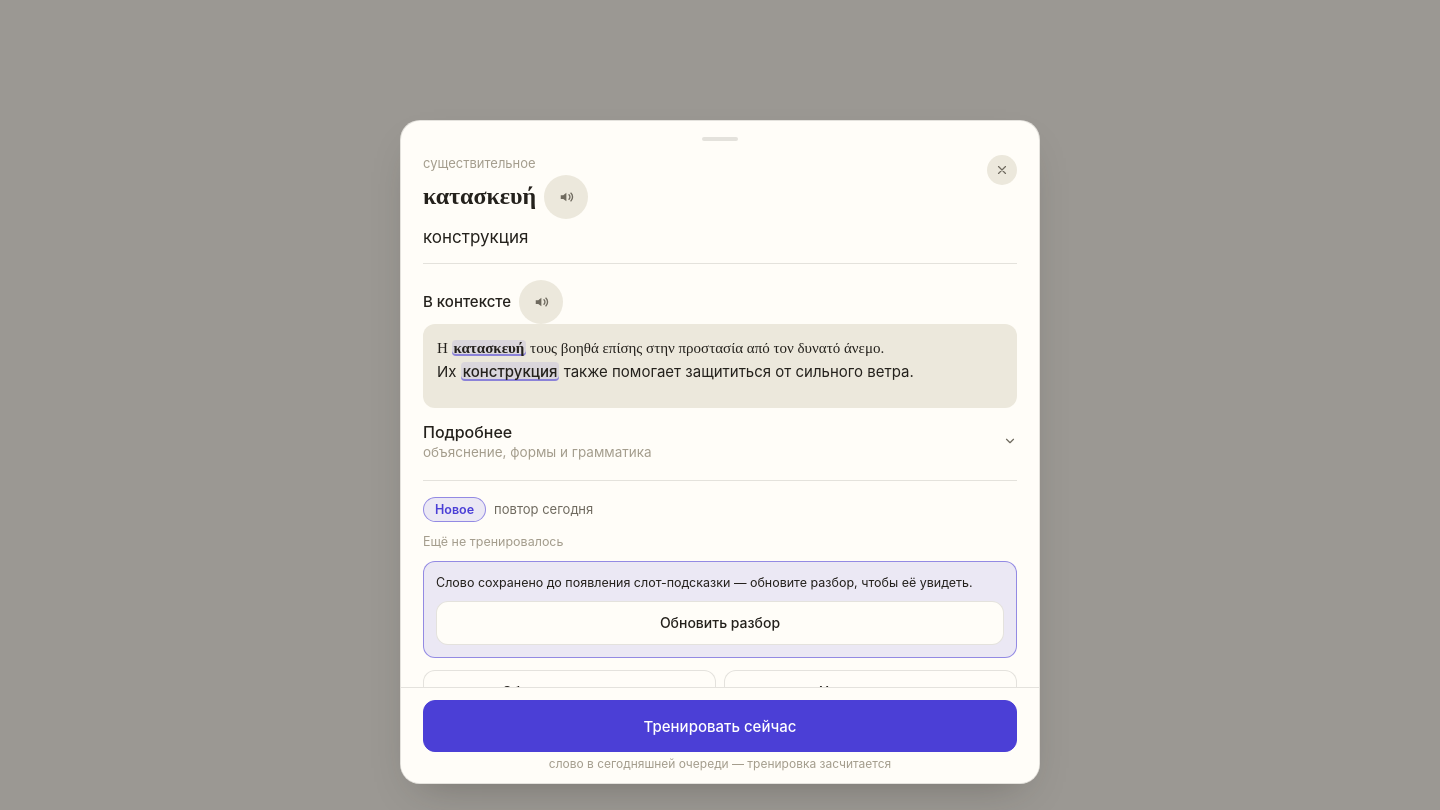
Test: LearnWordCard › «Подробнее» догружает тир 2 по локально токенизированному предложению
The width and height of the screenshot is (1440, 810).
Click the button "Подробнее объяснение, формы и грамматика" at [468, 432], box top-left (423, 408), bottom-right (1017, 464)
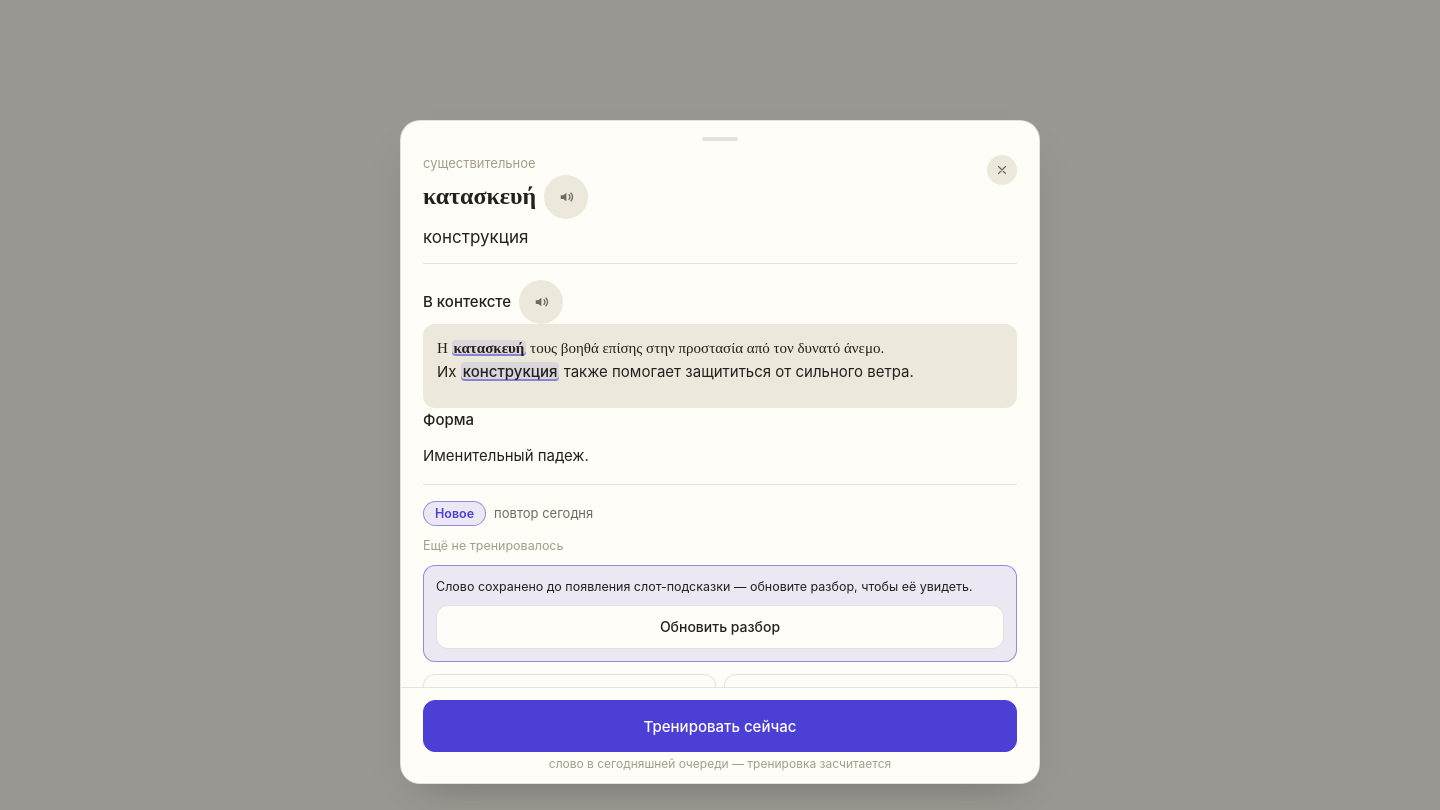
Expected: the text "Именительный падеж." is shown, top-left (423, 446), bottom-right (589, 465)
